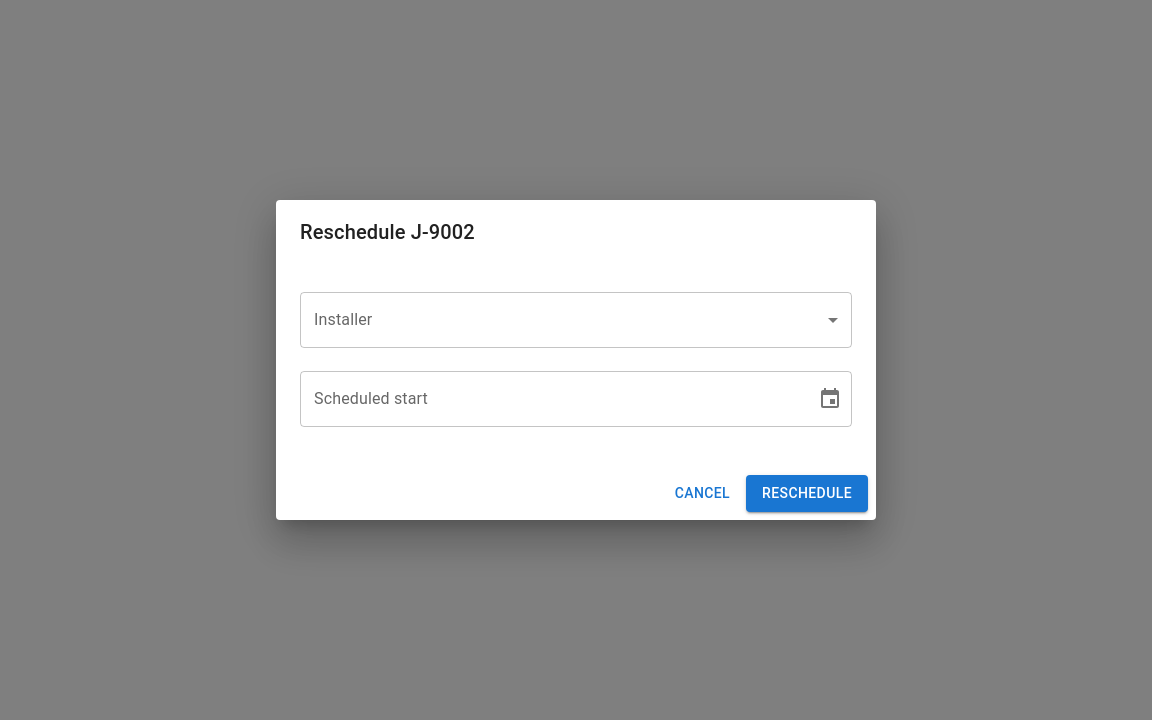
Test: RescheduleDialog validation › clears the form-level error once an installer is selected
Click the button "Reschedule" at (807, 494), box [746,475,868,512]
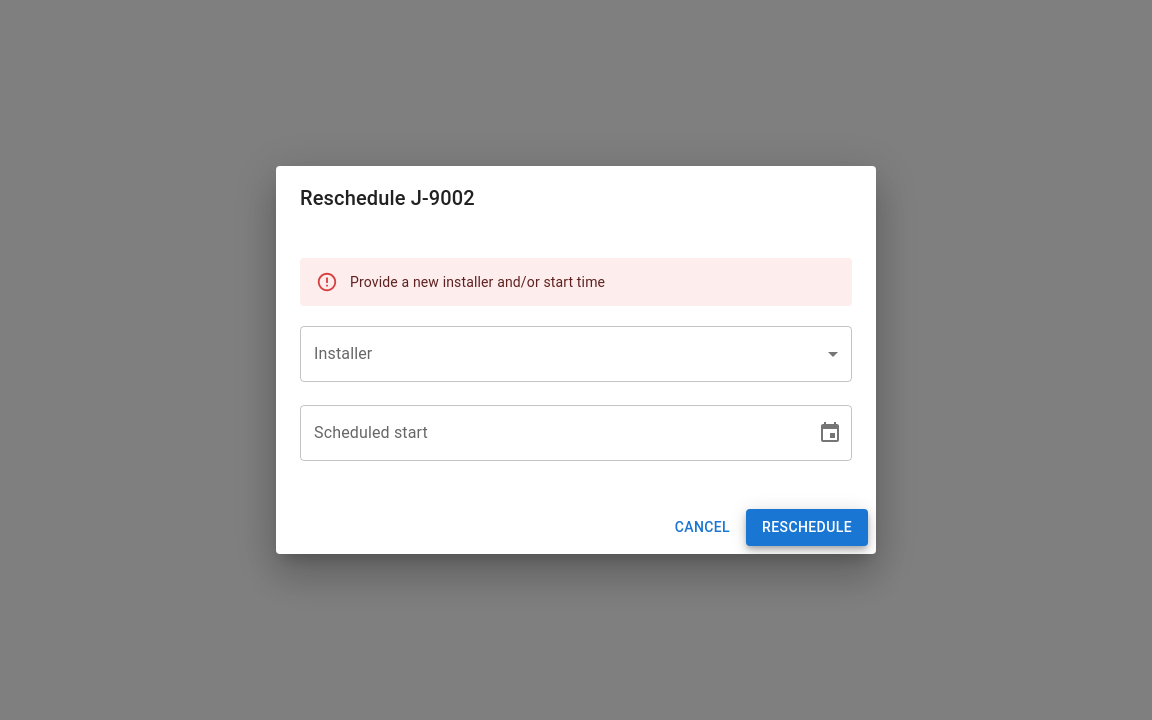
expect the text "Provide a new installer and/or start time" is shown: met, box [350,274,605,290]
Click the dropdown named "Installer" at (576, 354), box [300,326,852,382]
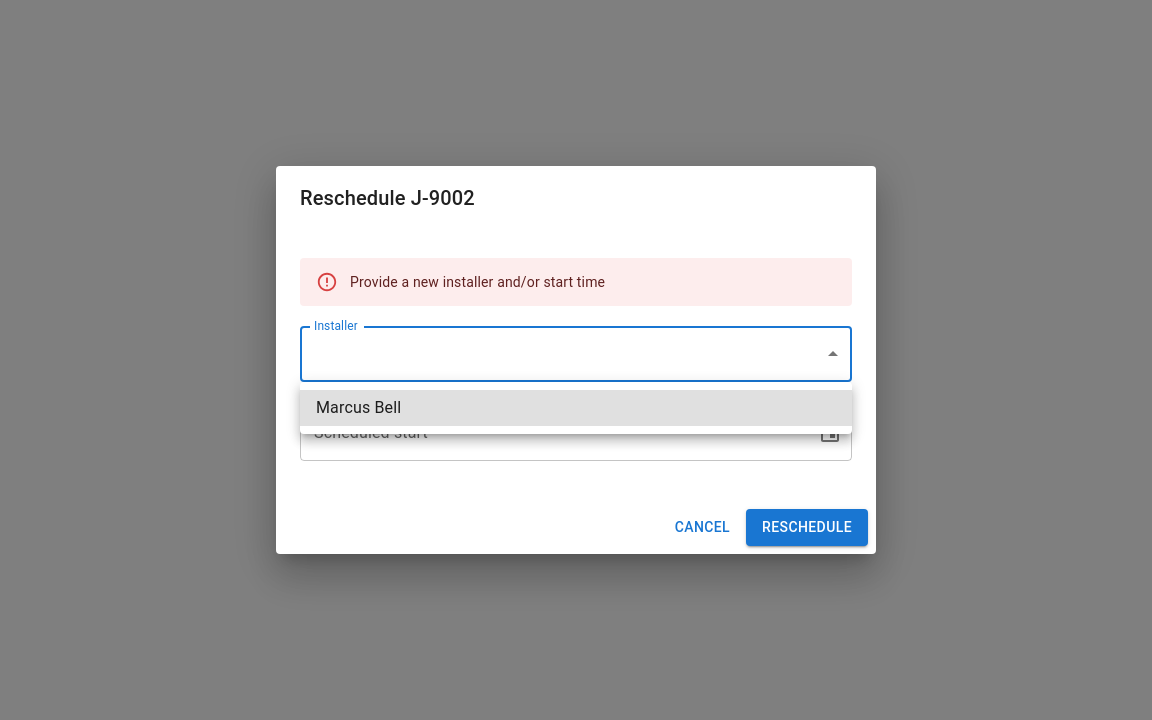
Click the option "Marcus Bell" at (359, 408), box [300,390,852,426]
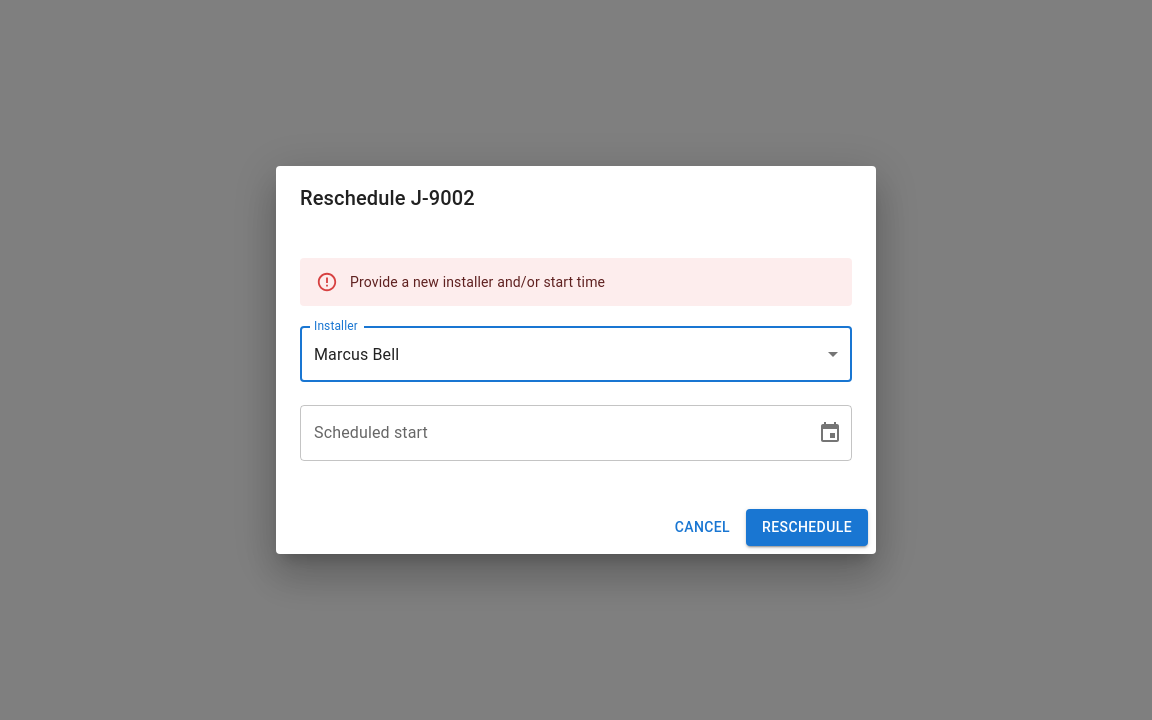
Click the button "Reschedule" at (807, 528), box [746,509,868,546]
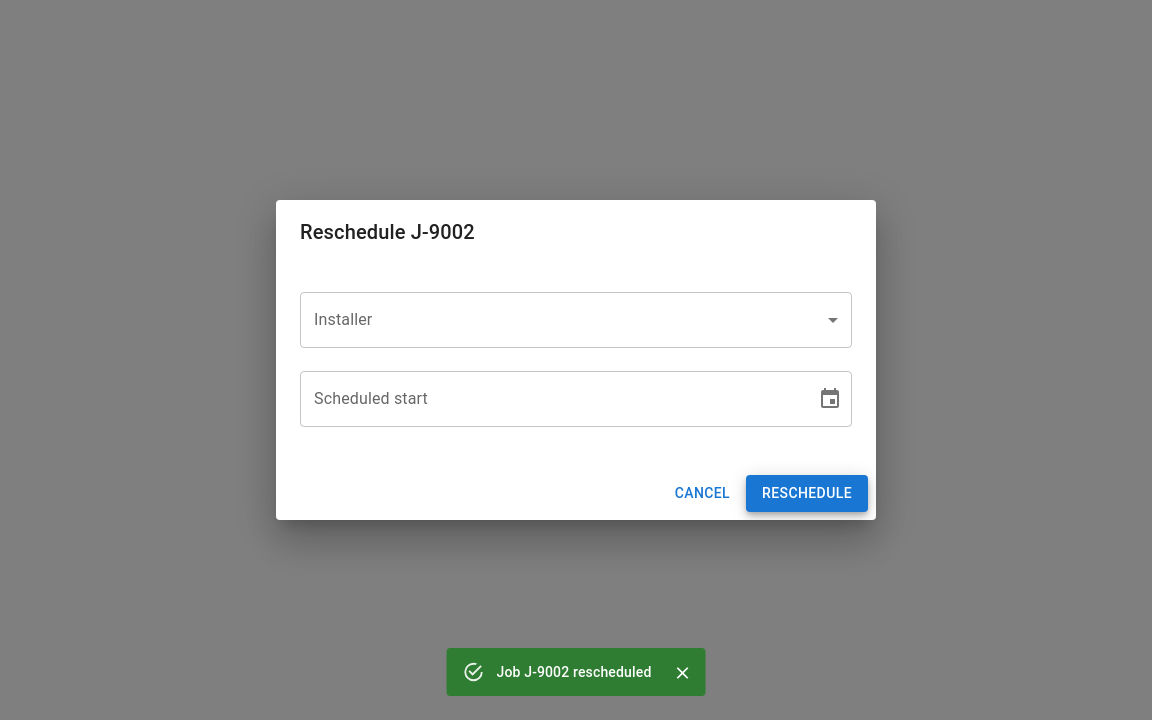
expect the text "Provide a new installer and/or start time" is gone: met
